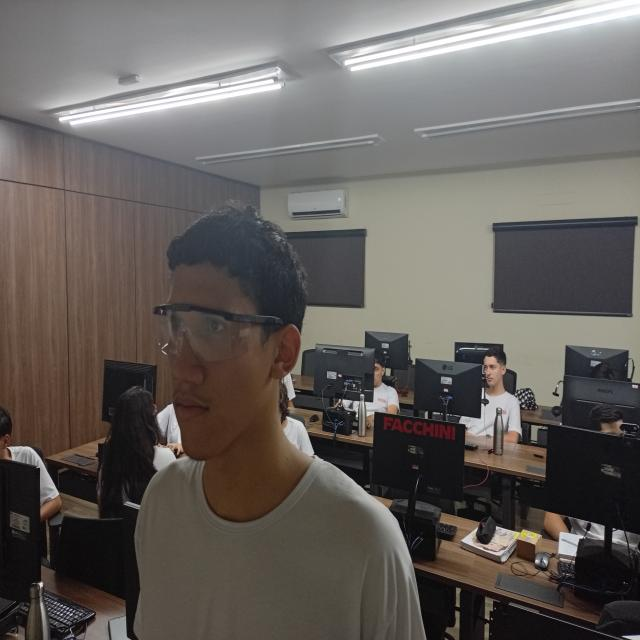oculos-epi: (153, 304, 283, 362)
sem_oculos: (479, 362, 507, 378), (372, 364, 383, 378)
